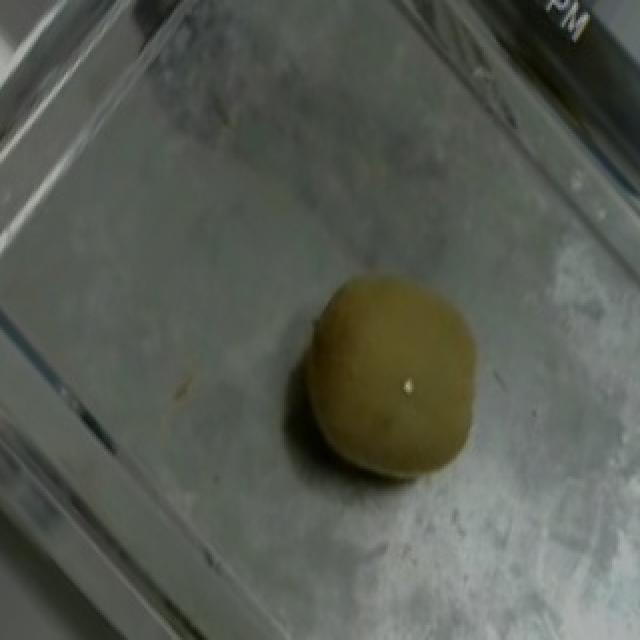Fruit: (254, 236, 520, 514)
